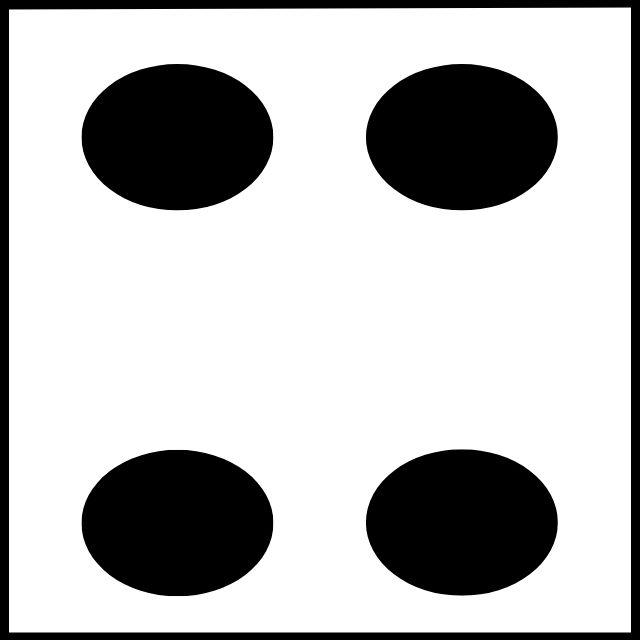one_cell_alphabet_ito: (78, 63, 562, 597)
